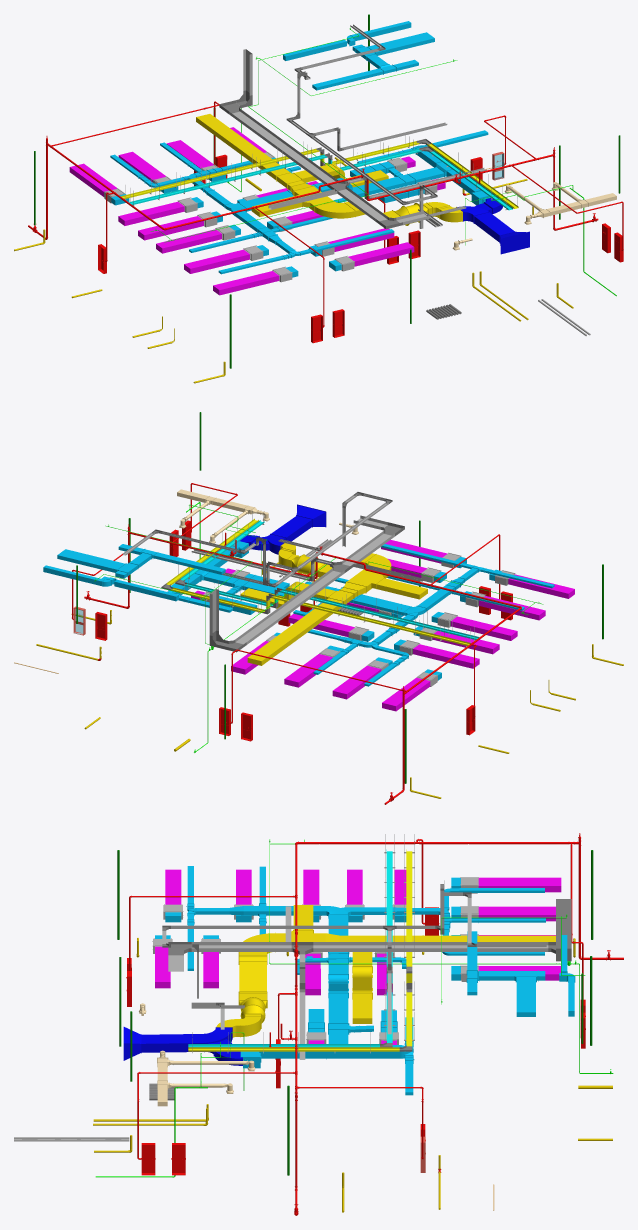
Rendered from mep1.glb.
3 renders of one model, top to bottom at view 1: azimuth 30°, elevation 25°; view 2: azimuth 150°, elevation 25°; view 3: azimuth 270°, elevation 25°, orthographic. The views are drawn at different scales.
Size of the model in its own units: 33.64 by 11.08 by 31.03.
Materials: 16 (1 with a texture image).
